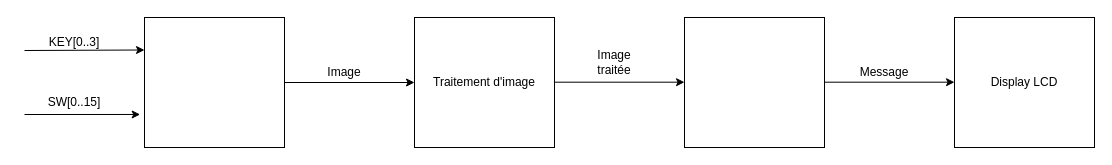
The diagram is 1112 pixels wide and 165 high, and some of its shapes have lost their labels. The shapes that lost their labels are listed below. From the top down, each one's centre as x and y in pixels, then its label:
At (x=214, y=82): "Camera".
At (x=754, y=82): "Modèle".
